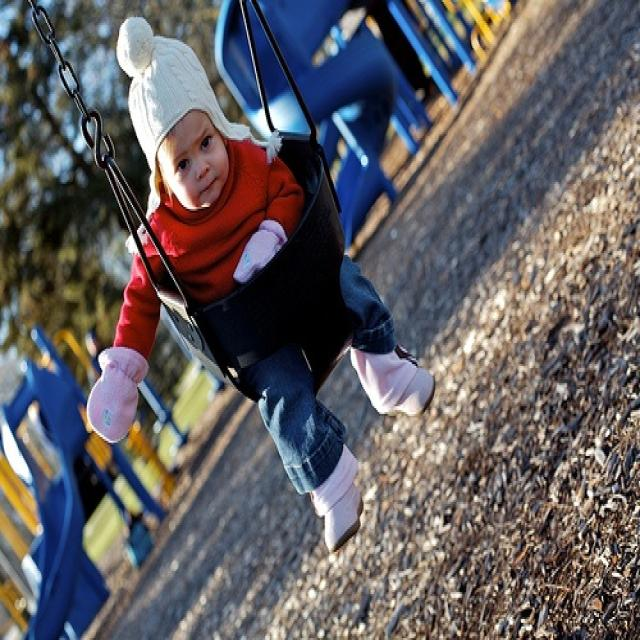person: (84, 15, 443, 582)
